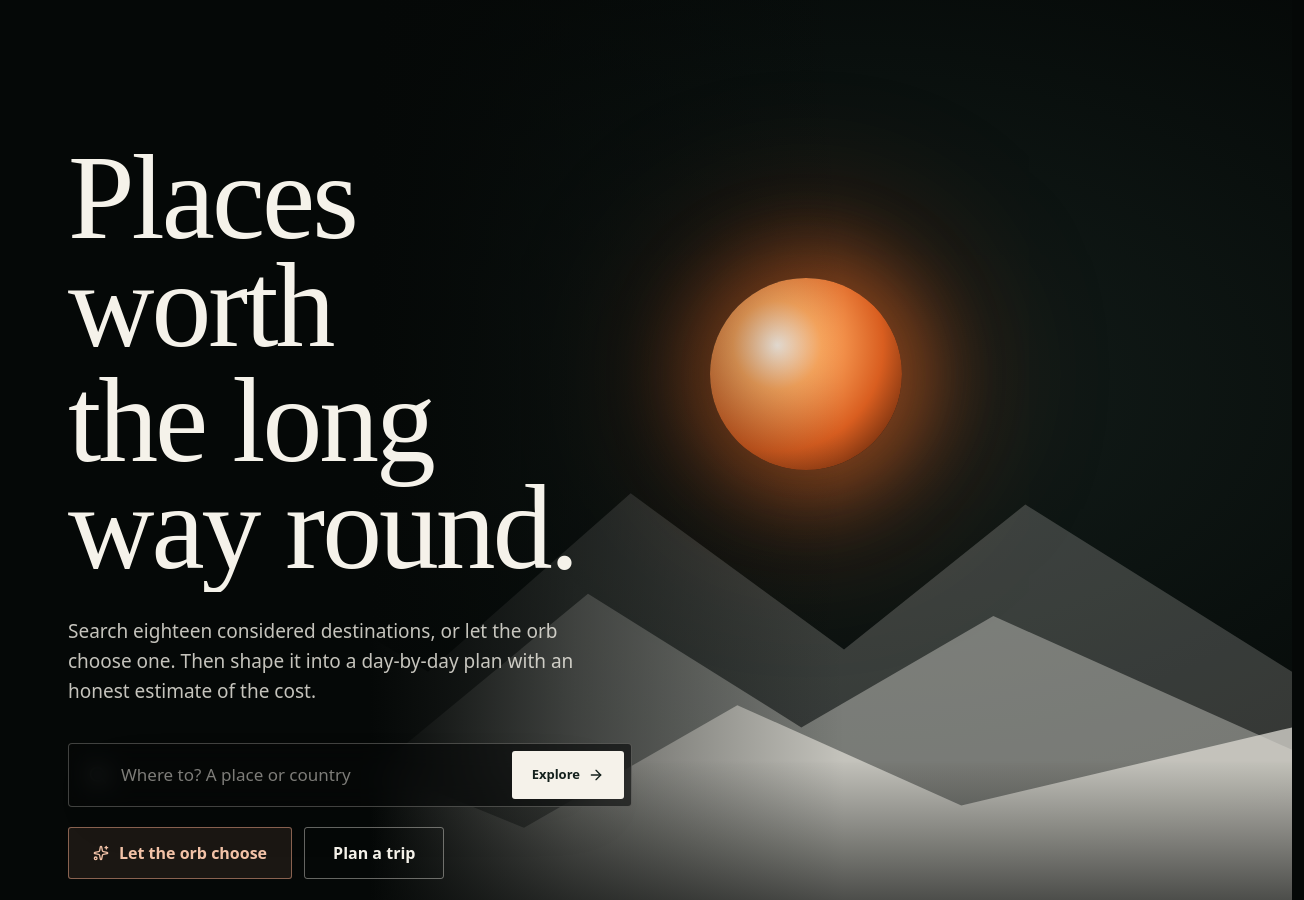
Test: hero orb › says so when it cannot reach the destinations
Click the button "Let the orb choose": (180, 853) [68,827,292,879]
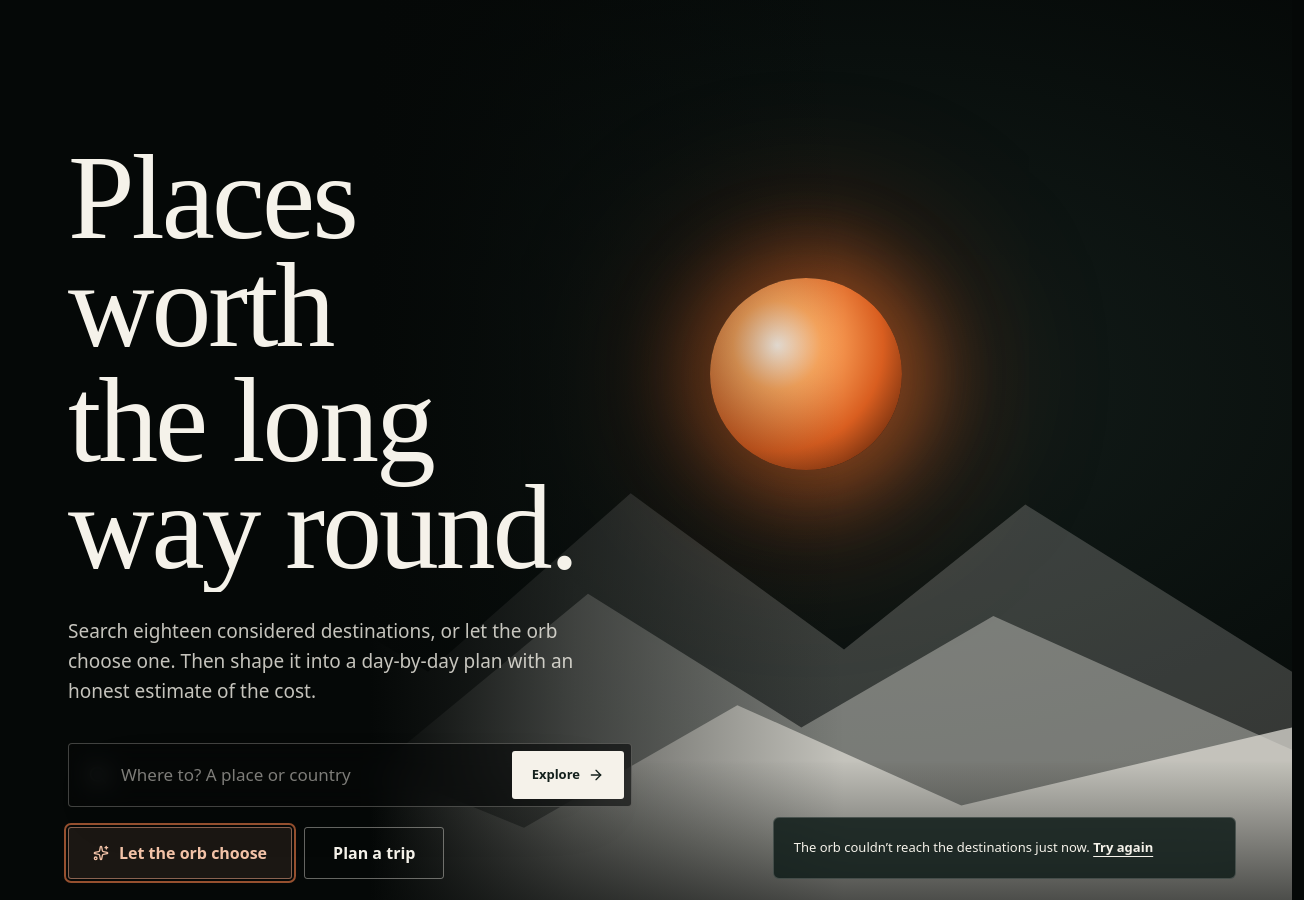
Check: the text "The orb couldn’t reach the destinations just now. Try again" is shown, box [773,817,1236,879]
